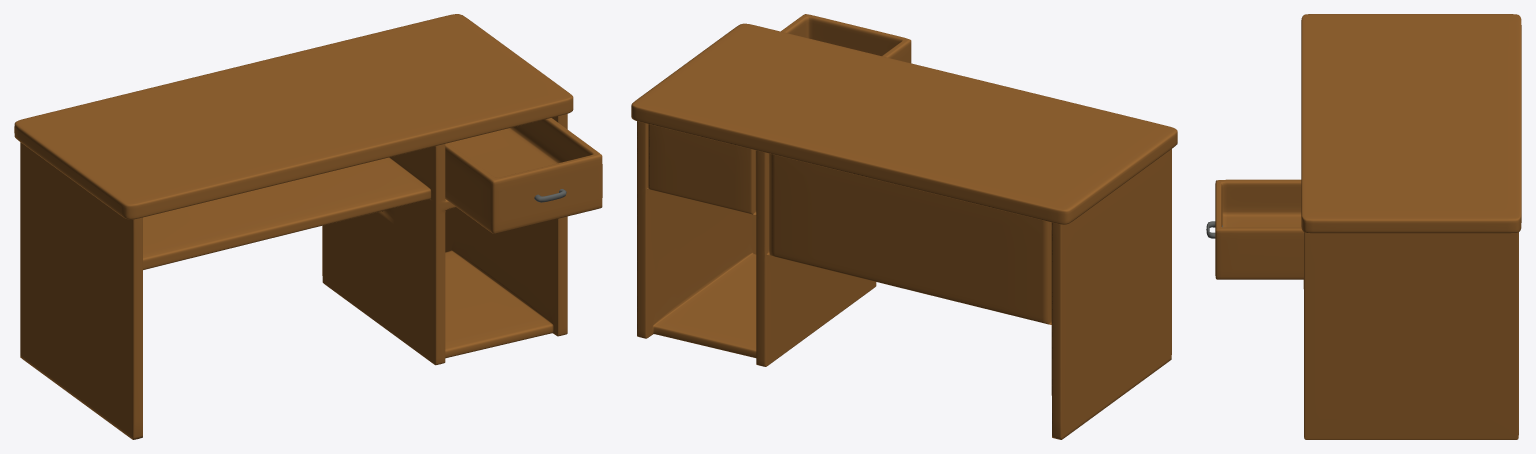
File: tietokonepöytä.fbx
The picture shows the model from 3 angles, left to right: view 1: azimuth 30°, elevation 25°; view 2: azimuth 150°, elevation 25°; view 3: azimuth 270°, elevation 25°; orthographic projection. The views are drawn at different scales.
Parts seen in each view (by area): view 1: pöytä; view 2: pöytä; view 3: pöytä.
Boxes of the visible parts, x1,y1,x2,y2 form: pöytä: (14, 14, 602, 439); pöytä: (631, 14, 1177, 439); pöytä: (1215, 14, 1521, 439).
Bounding box in the file's own units: 170 × 85.85 × 110.
